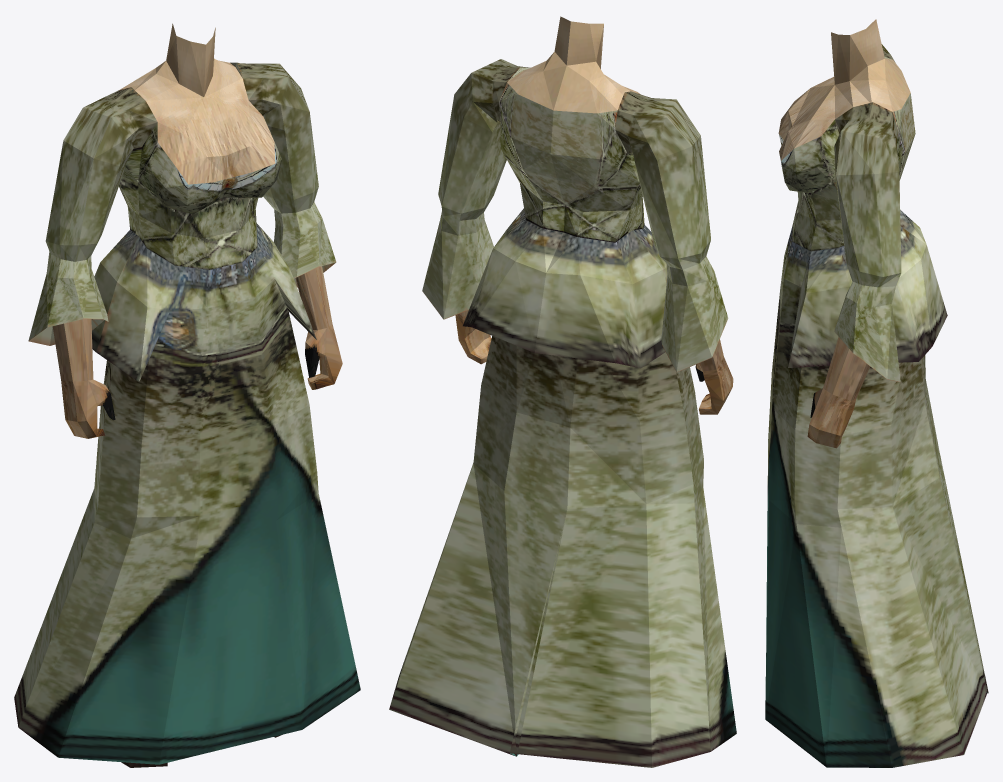
File: Armor_BauBabe_M.glb
The picture shows the model from 3 angles, left to right: view 1: azimuth 30°, elevation 25°; view 2: azimuth 150°, elevation 25°; view 3: azimuth 270°, elevation 25°; orthographic projection. The views are drawn at different scales.
Parts seen in each view (by area): view 1: Armor_BauBabe_Mzm_Magd; view 2: Armor_BauBabe_Mzm_Magd; view 3: Armor_BauBabe_Mzm_Magd.
Part boxes in pixels (left/top/right/bottom): Armor_BauBabe_Mzm_Magd: left=14, top=23, right=360, bottom=767; Armor_BauBabe_Mzm_Magd: left=389, top=16, right=736, bottom=767; Armor_BauBabe_Mzm_Magd: left=765, top=19, right=988, bottom=767.
Size of the model in its own units: 0.7699 by 1.65 by 0.4842.
Materials: 2 (2 with a texture image).
